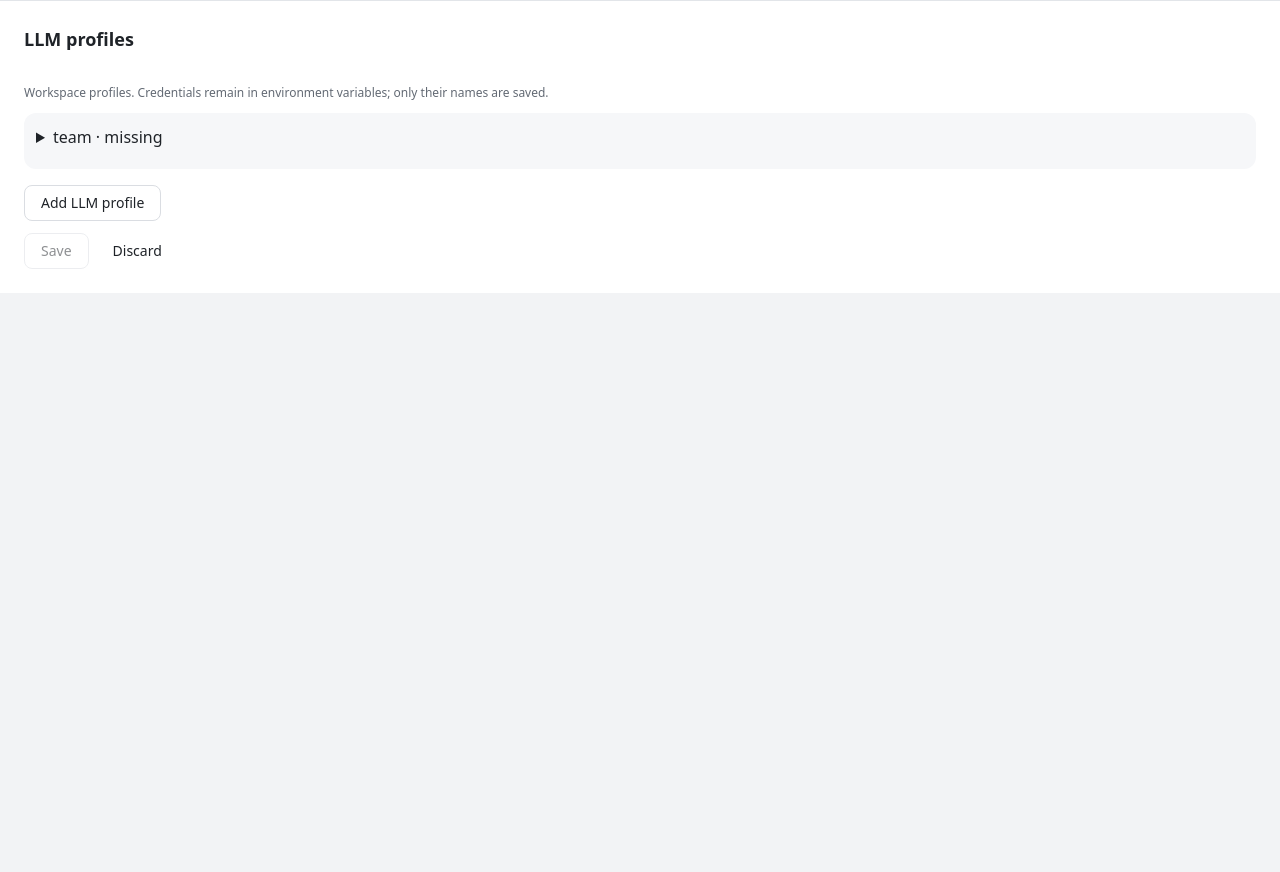
blocks embedded credentials, adds and deletes draft profiles without writing
Click the heading "team · missing".
click(108, 137)  # box [53,126,162,148]
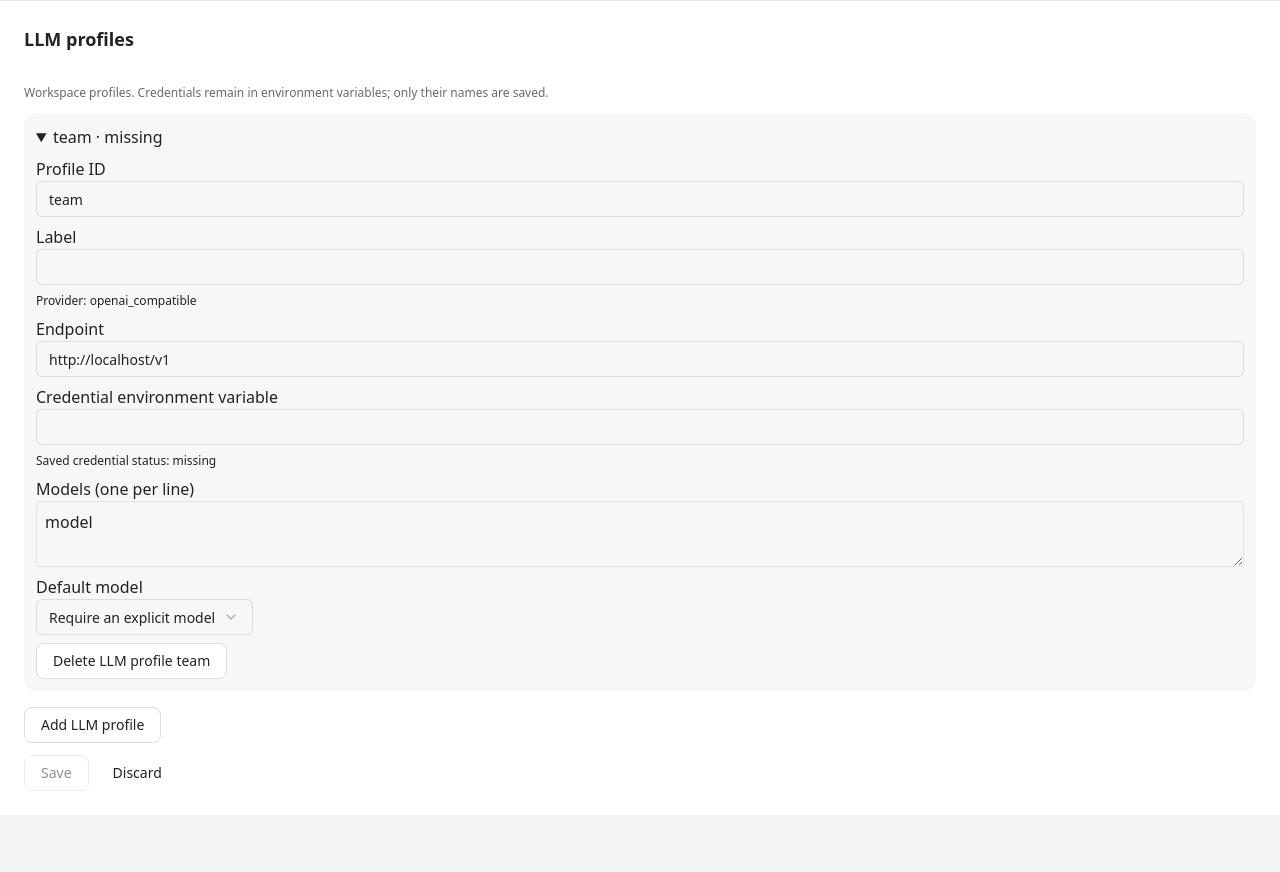
Replace the text in the field labelled "Endpoint" with "https://user:secret@example.com" at (640, 359), box [36,341,1244,377]
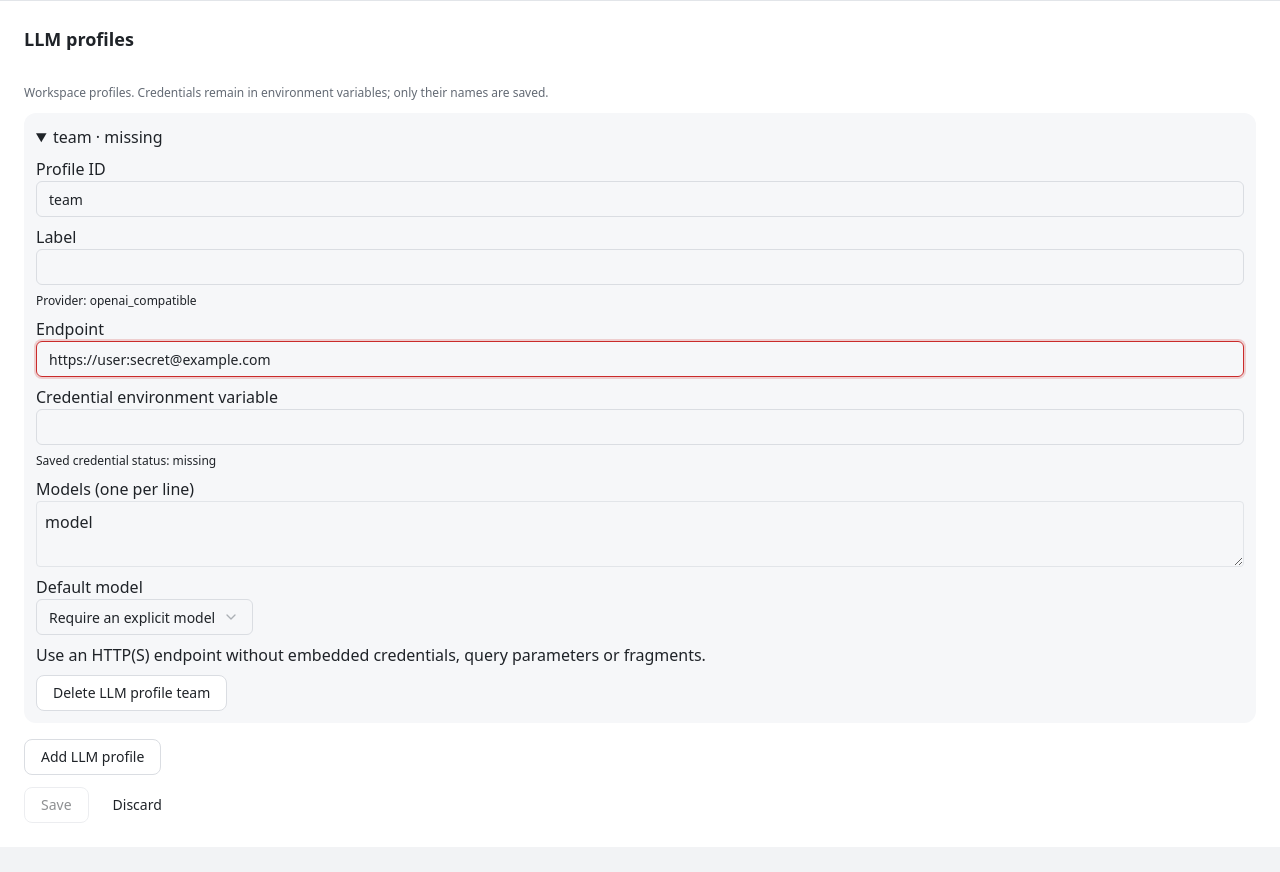
Check: the button "Save" is disabled, box [24,787,89,823]
Click the button "Add LLM profile".
click(93, 757)  # box [24,739,161,775]
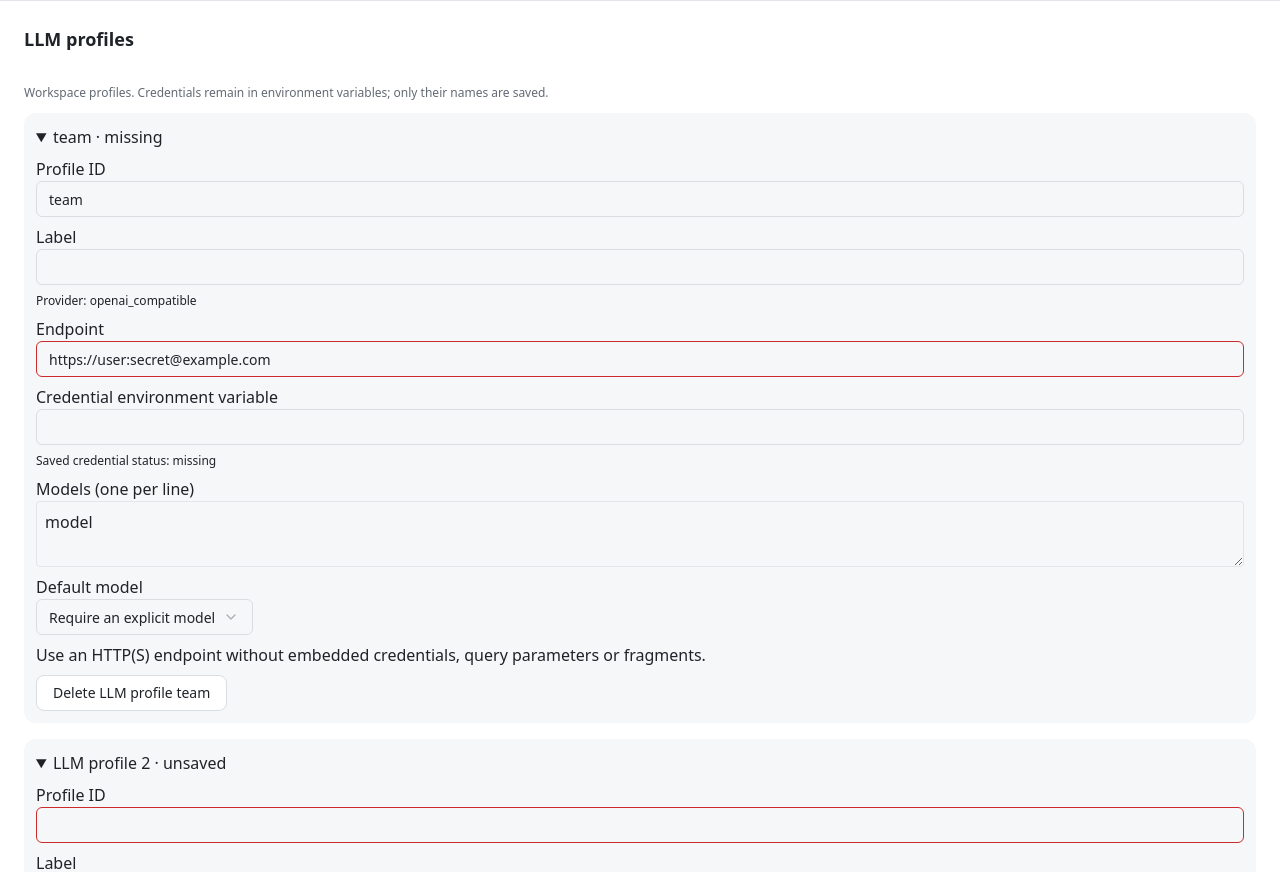
Check: the number of fields labelled "Endpoint" is 2
Click the button "Delete LLM profile team".
click(132, 693)  # box [36,675,227,711]
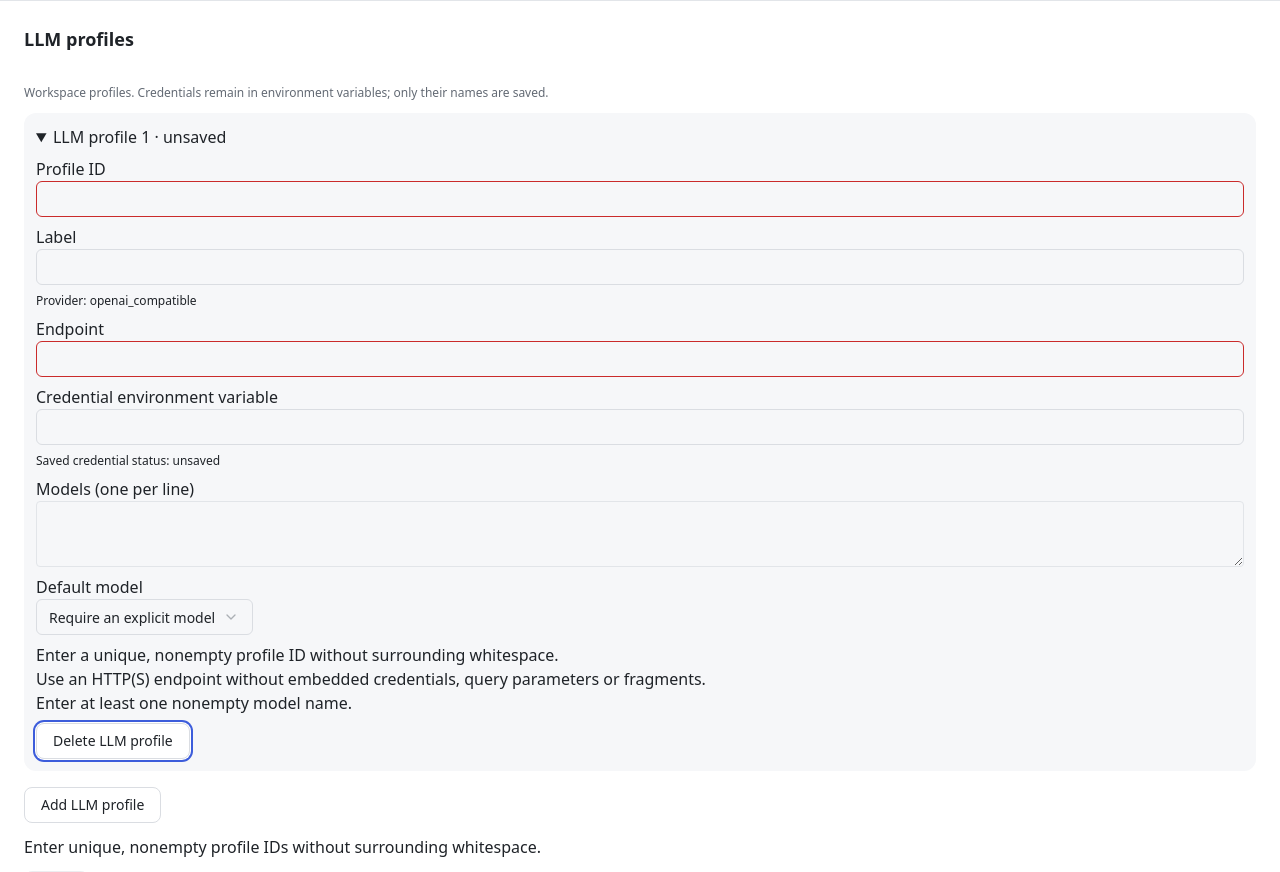
Check: the number of fields labelled "Endpoint" is 1, box [36,341,1244,377]
